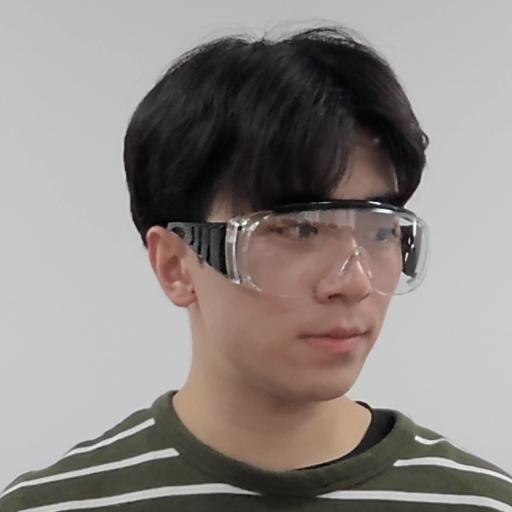glasses: (114, 29, 450, 395)
